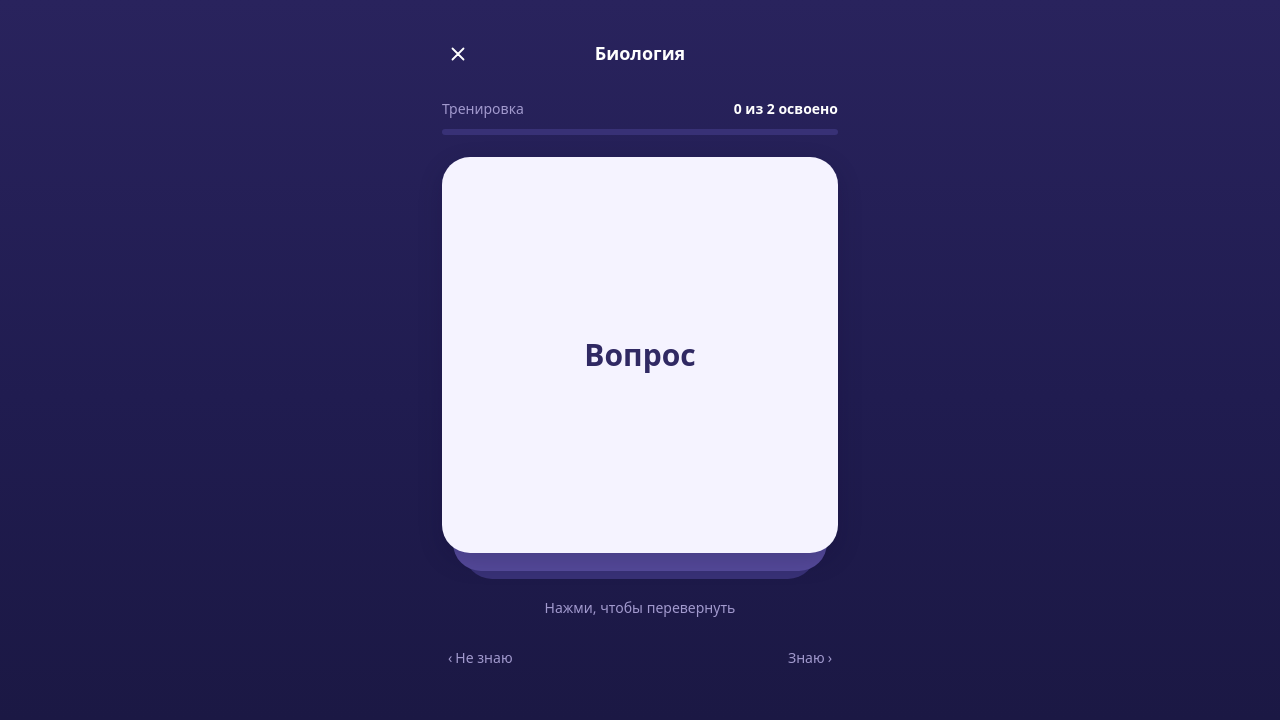
Test case: study interaction › grades with Знаю (known), flipped=false
Click the button "Знаю ›": (810,658) [782,636,838,680]
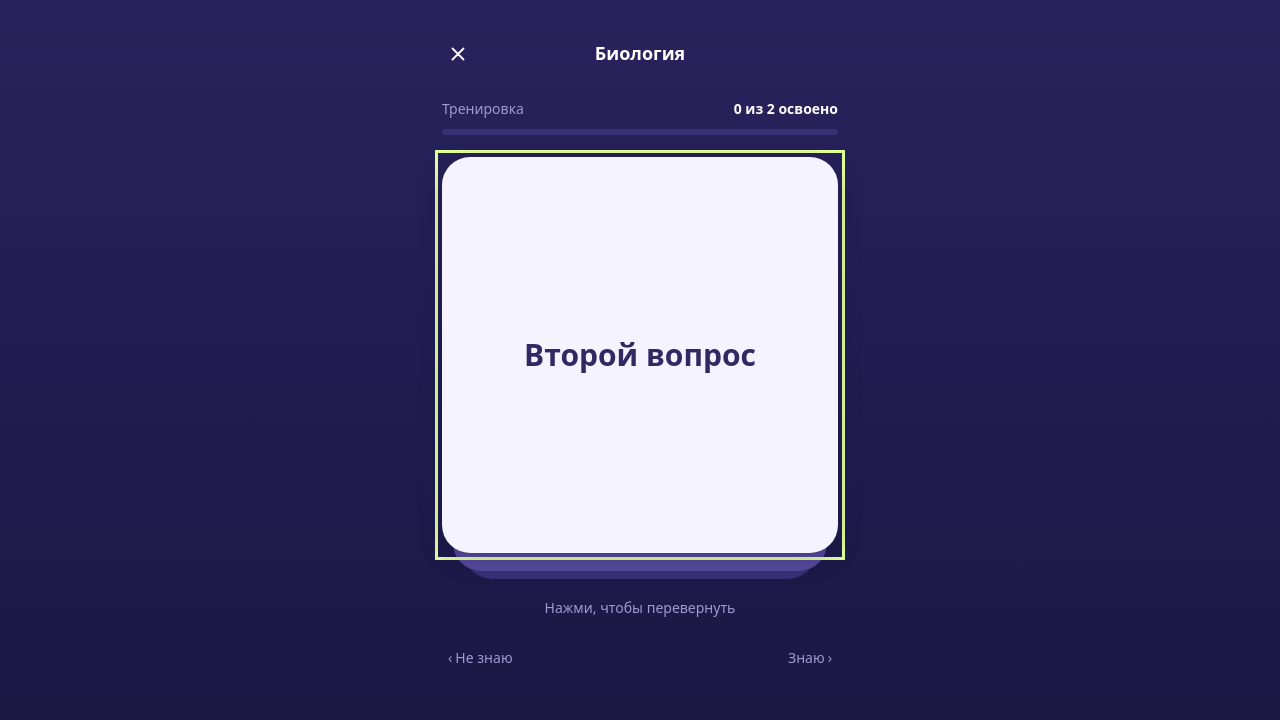
Check: the button with aria-label "Карточка 2. Вопрос: Второй вопрос" is shown, box [442,157,838,553]
